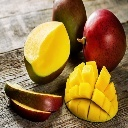mango: (76, 8, 126, 76), (64, 60, 119, 121), (22, 20, 71, 84)
